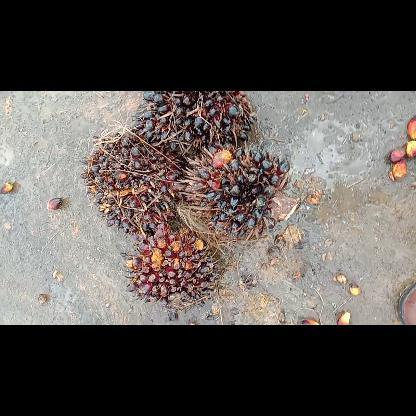TBS abnormal: (180, 140, 302, 240), (133, 91, 265, 169)
TBS masak: (76, 129, 190, 235), (122, 218, 228, 310)
